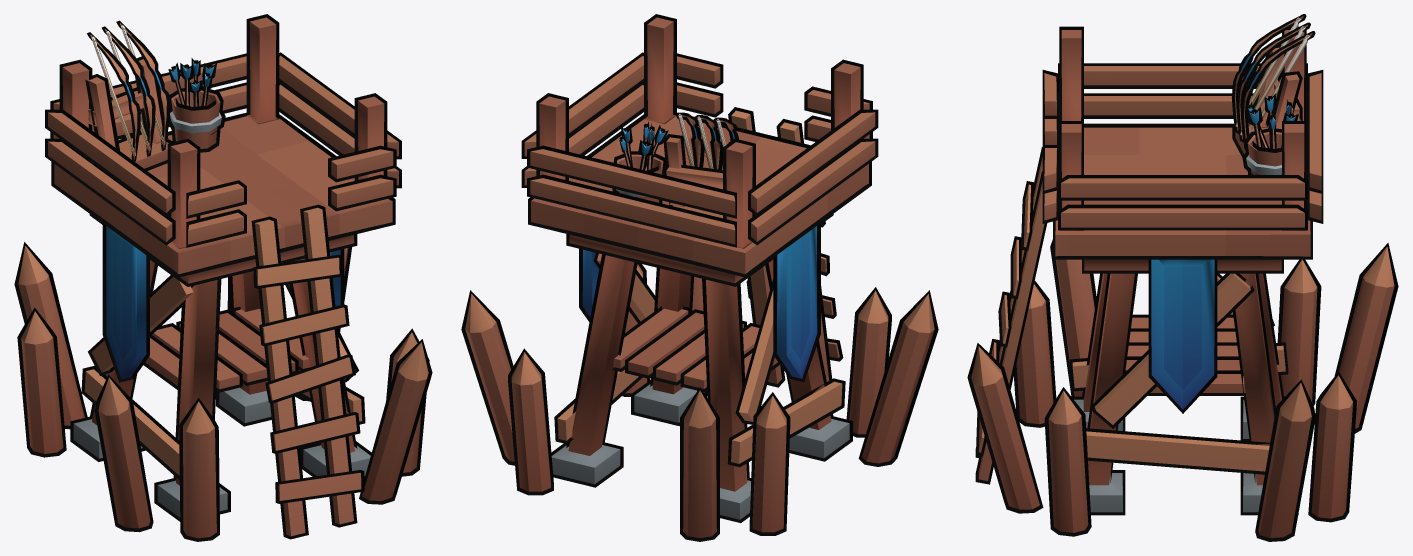
The picture shows the model from 3 angles, left to right: view 1: azimuth 30°, elevation 25°; view 2: azimuth 150°, elevation 25°; view 3: azimuth 270°, elevation 25°; orthographic projection. The views are drawn at different scales.
Parts seen in each view (by area): view 1: building_watchtower_blue.002; view 2: building_watchtower_blue.002; view 3: building_watchtower_blue.002.
Part boxes in pixels (x1=…): building_watchtower_blue.002: x1=14, y1=14, x2=432, y2=541; building_watchtower_blue.002: x1=461, y1=14, x2=938, y2=541; building_watchtower_blue.002: x1=967, y1=14, x2=1398, y2=541.
Size of the model in its own units: 1.04 by 1.11 by 1.04.
2 materials, 1 textured.
